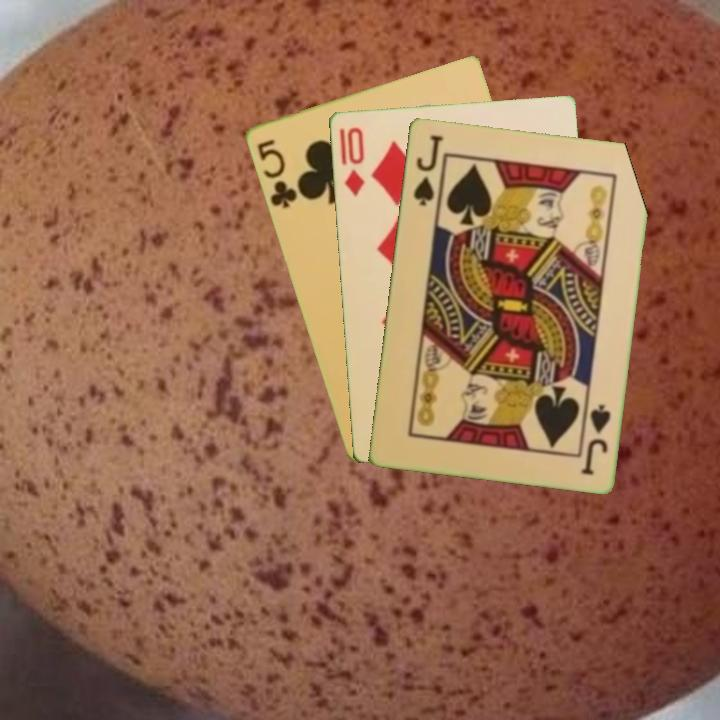10d: (341, 123, 367, 199)
5c: (253, 135, 303, 211)
Js: (409, 131, 446, 208), (578, 400, 613, 478)
